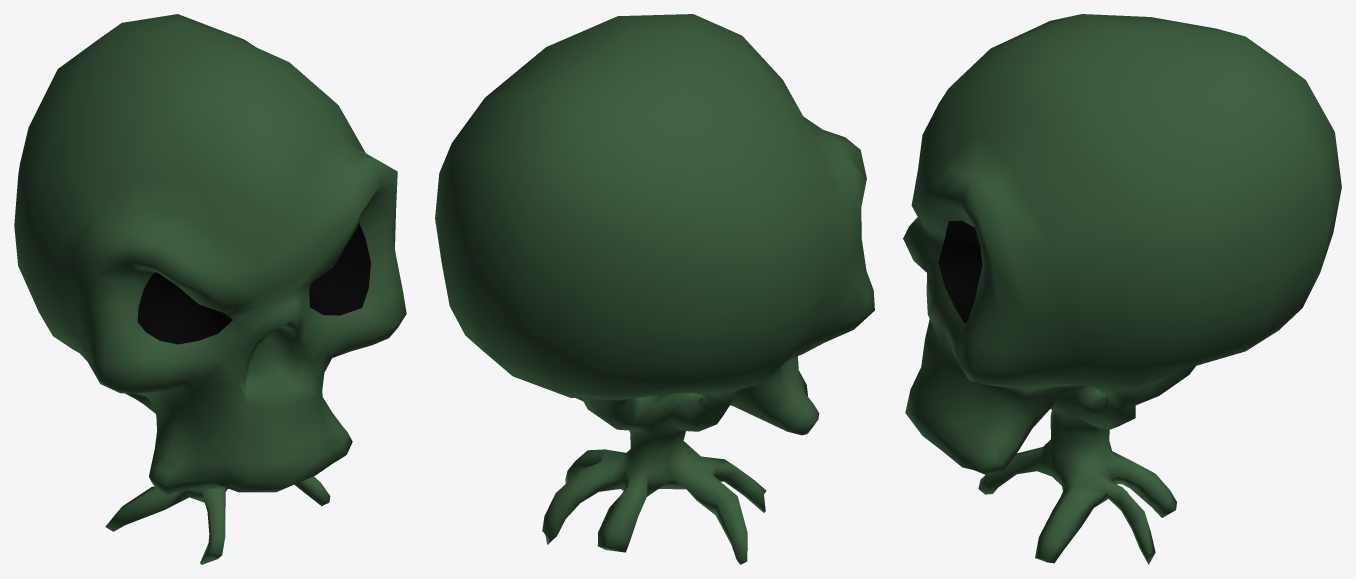
File: CH_GA_prop_Brush_Skull_Hell.FBX
The picture shows the model from 3 angles, left to right: view 1: azimuth 30°, elevation 25°; view 2: azimuth 150°, elevation 25°; view 3: azimuth 270°, elevation 25°; orthographic projection. The views are drawn at different scales.
Visible parts, largest first — view 1: CH_GA_prop_Brush_Skull_Hell; view 2: CH_GA_prop_Brush_Skull_Hell; view 3: CH_GA_prop_Brush_Skull_Hell.
Boxes of the visible parts, box(x1,y1,x2,y2) form: CH_GA_prop_Brush_Skull_Hell: box(14, 14, 406, 564); CH_GA_prop_Brush_Skull_Hell: box(435, 14, 874, 564); CH_GA_prop_Brush_Skull_Hell: box(903, 14, 1341, 564).
Size of the model in its own units: 106 by 150 by 119.
